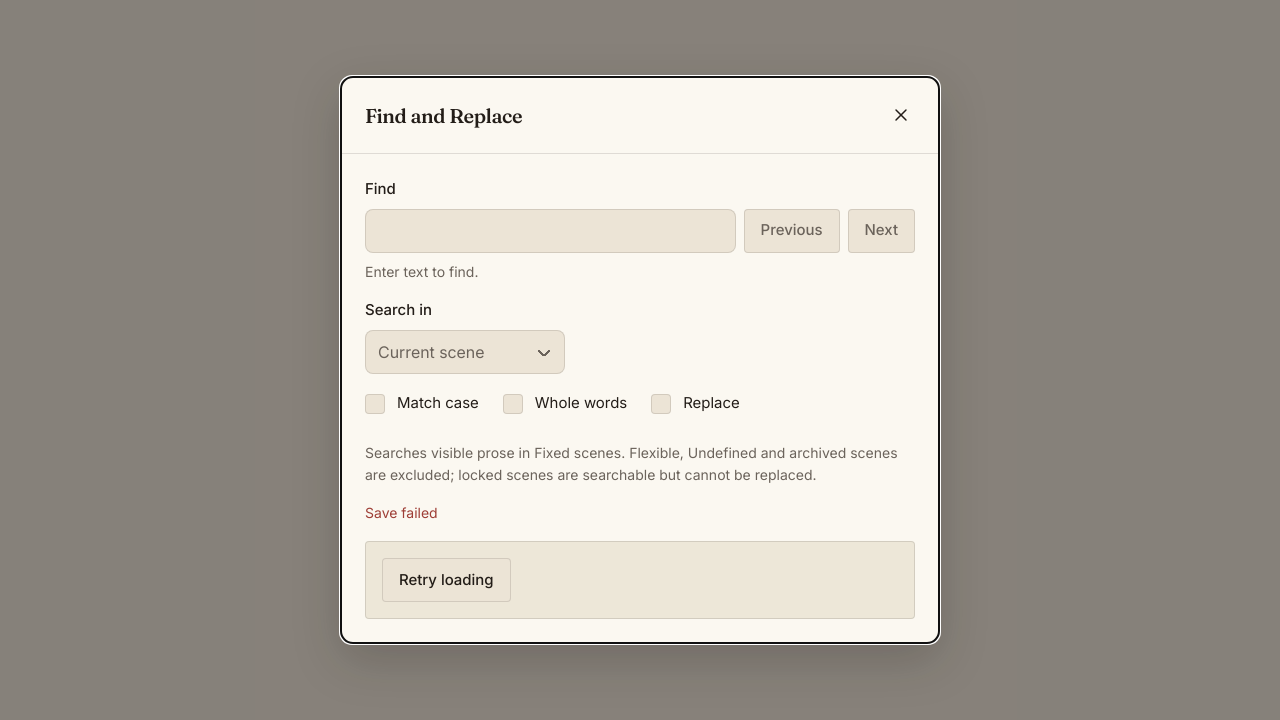
Test case: retries loading successfully after a transient failure without reopening
Expected: the message "Save failed" is shown, x1=365 y1=504 x2=438 y2=521
Step 1. Click the button "Retry loading" → (446, 580), box x1=382 y1=558 x2=511 y2=602
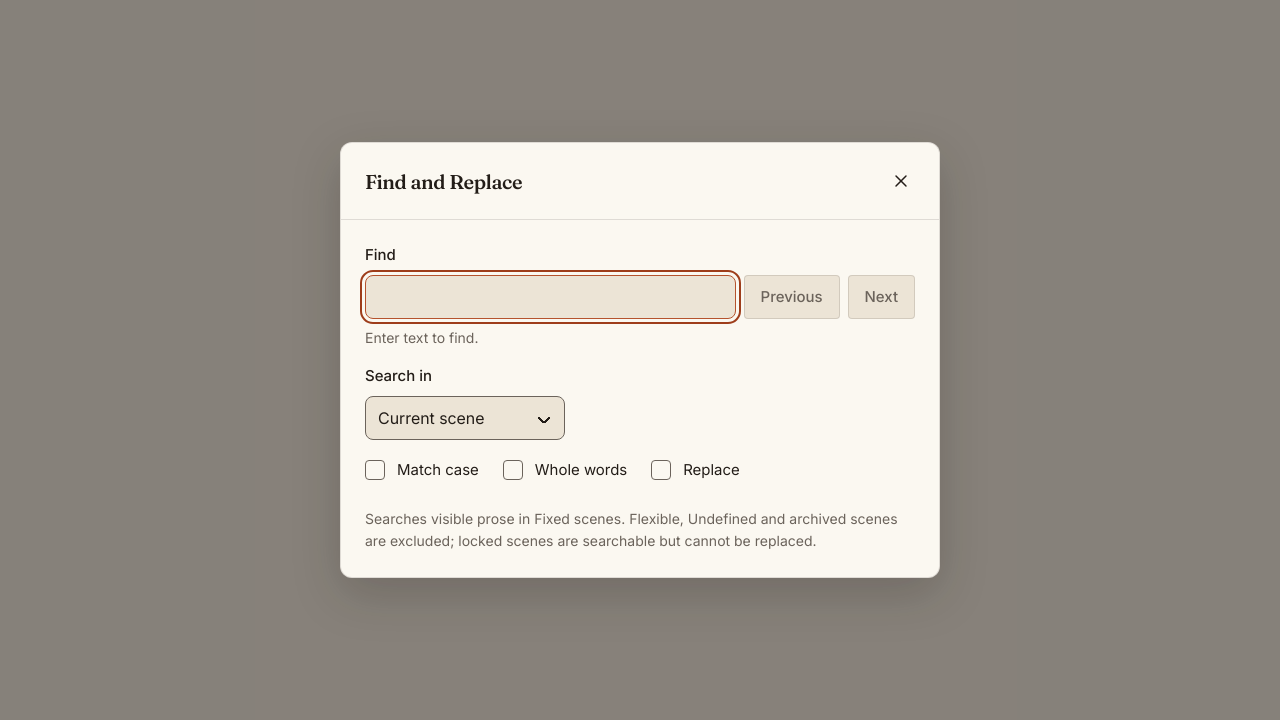
Expected: the message "Save failed" is gone
